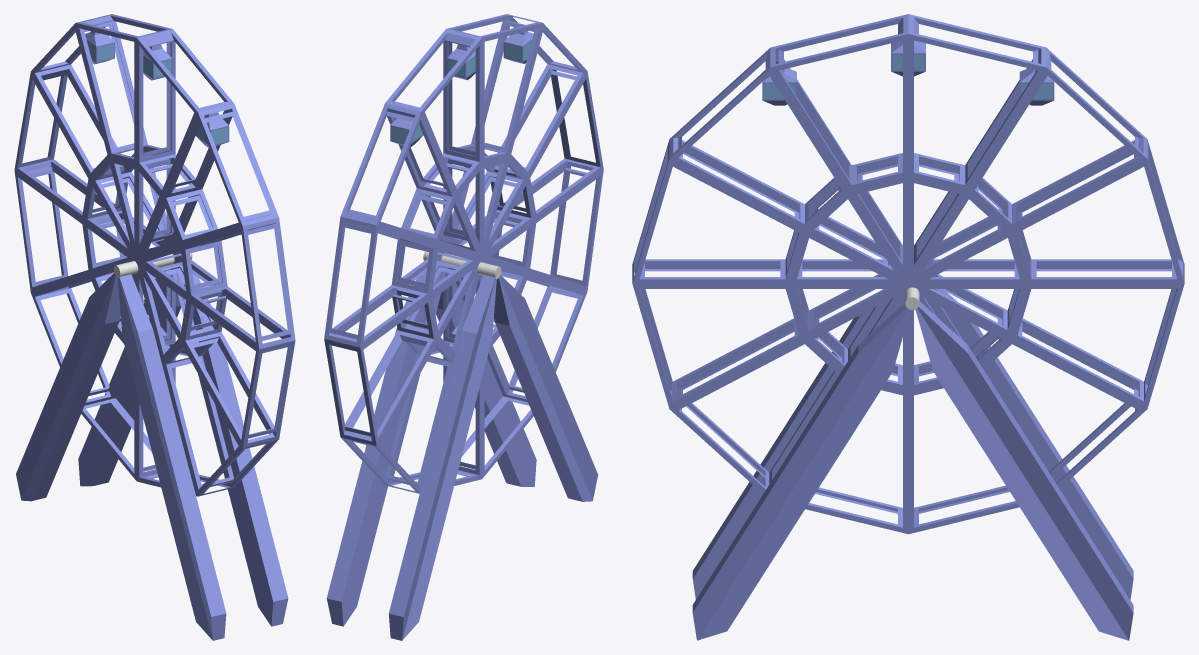
File: ferrisWheeL.fbx
3 views of the same model, side by side, from view 1: azimuth 30°, elevation 25°; view 2: azimuth 150°, elevation 25°; view 3: azimuth 270°, elevation 25° (orthographic). The views are drawn at different scales.
Visible parts, largest first — view 1: Circle, Circle.002, Circle.007, Circle.006, Circle.005, Circle.001, Cylinder; view 2: Circle, Circle.002, Circle.007, Circle.005, Circle.001, Circle.006, Cylinder; view 3: Circle, Circle.007, Circle.002, Circle.001.
Part boxes in pixels (bbox=[...]): Circle: bbox=[14, 14, 295, 496]; Circle.002: bbox=[16, 273, 226, 640]; Circle.007: bbox=[78, 274, 288, 626]; Circle.006: bbox=[85, 27, 114, 64]; Circle.005: bbox=[195, 112, 229, 147]; Circle.001: bbox=[143, 44, 171, 80]; Cylinder: bbox=[114, 253, 192, 277]; Circle: bbox=[324, 14, 603, 493]; Circle.002: bbox=[388, 275, 597, 640]; Circle.007: bbox=[326, 272, 536, 626]; Circle.005: bbox=[503, 27, 533, 63]; Circle.001: bbox=[447, 44, 475, 80]; Circle.006: bbox=[390, 118, 423, 146]; Cylinder: bbox=[423, 251, 501, 278]; Circle: bbox=[632, 14, 1184, 534]; Circle.007: bbox=[692, 301, 1133, 640]; Circle.002: bbox=[692, 289, 1133, 599]; Circle.001: bbox=[891, 40, 925, 76].
Bounding box in the file's own units: 183 × 1195 × 1000.
